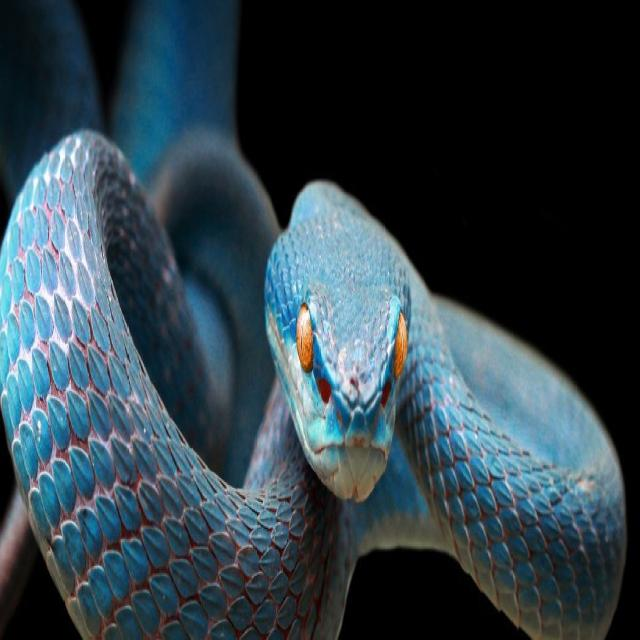Snake: (2, 115, 630, 640)
